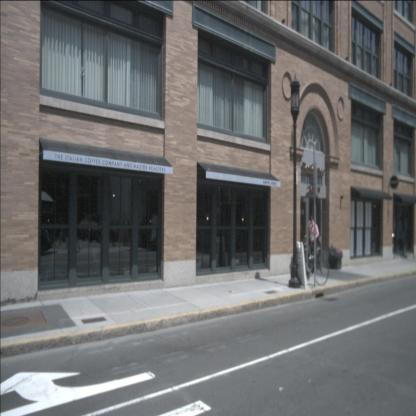human-pedestrian-adult: (307, 215, 319, 274)
vehicle-bicycle: (291, 242, 329, 286)
